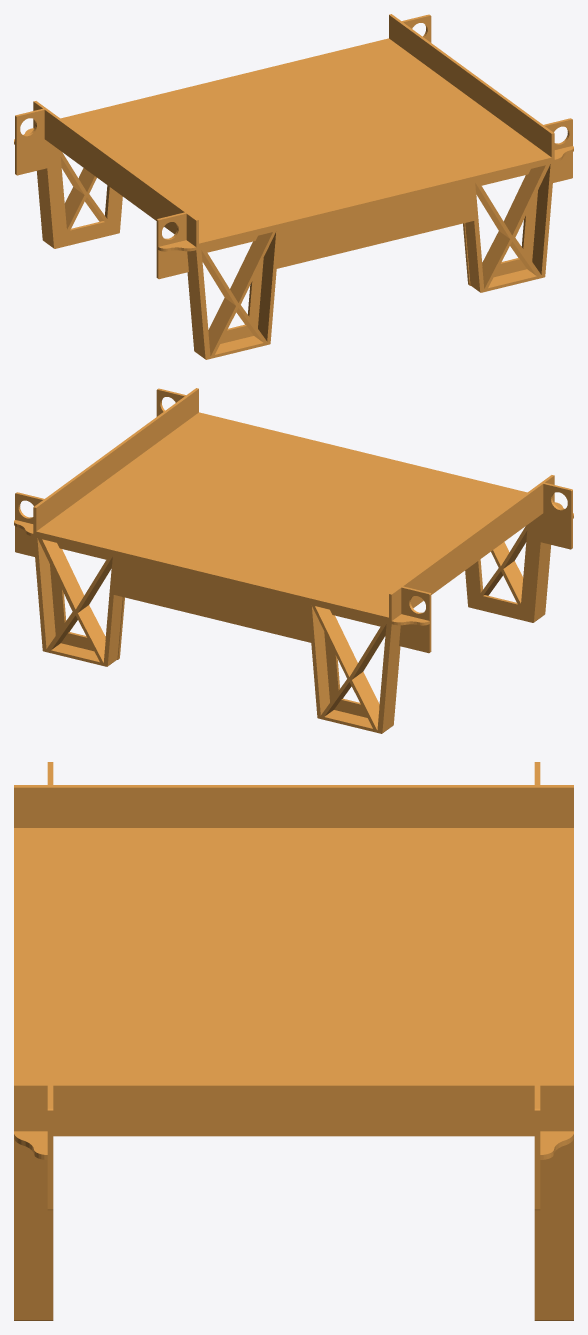
Rendered from Bolzentisch3D.dae.
The picture shows the model from 3 angles, top to bottom: view 1: azimuth 30°, elevation 25°; view 2: azimuth 150°, elevation 25°; view 3: azimuth 270°, elevation 25°; orthographic projection. The views are drawn at different scales.
Parts seen in each view (by area): view 1: node0; view 2: node0; view 3: node0.
Part boxes in pixels (left/top/right/bottom): node0: left=14, top=14, right=573, bottom=359; node0: left=14, top=388, right=573, bottom=733; node0: left=14, top=762, right=573, bottom=1320.
Bounding box in the file's own units: 1.47 × 1 × 0.48.
